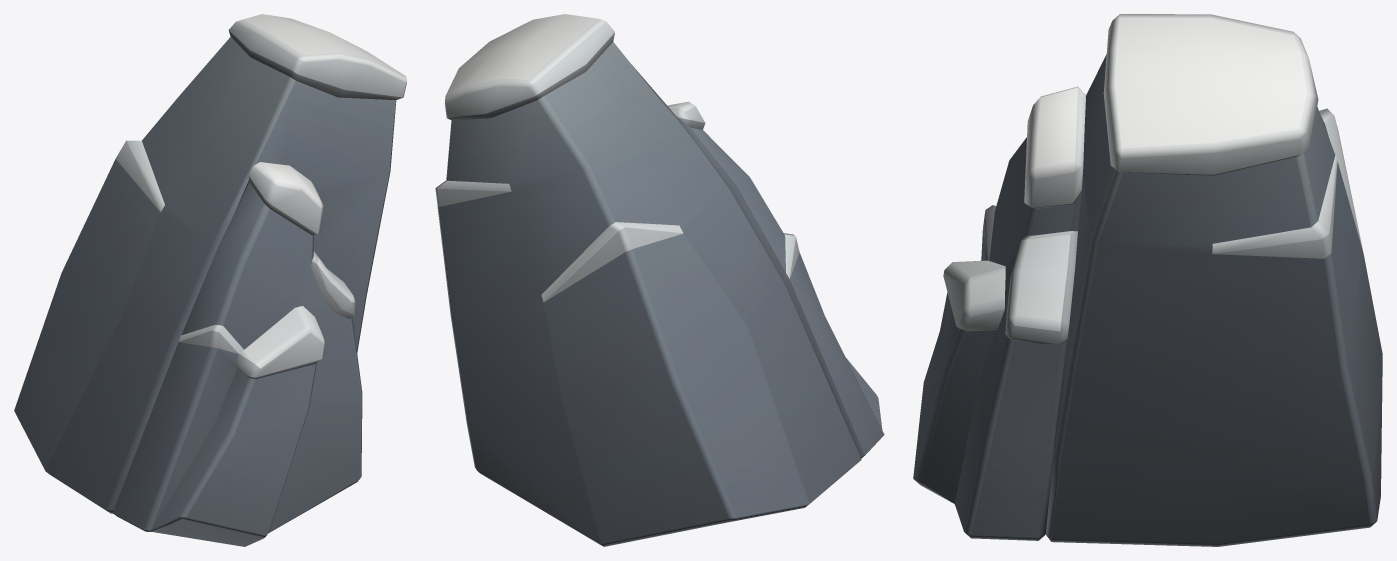
The model's file is rock_snow_029.fbx.
3 renders of one model, left to right at view 1: azimuth 30°, elevation 25°; view 2: azimuth 150°, elevation 25°; view 3: azimuth 270°, elevation 25°, orthographic. The views are drawn at different scales.
Parts seen in each view (by area): view 1: rock_snow_029; view 2: rock_snow_029; view 3: rock_snow_029.
Part boxes in pixels (x1,y1,x2,y2): rock_snow_029: [14, 14, 406, 546]; rock_snow_029: [435, 14, 884, 546]; rock_snow_029: [913, 14, 1382, 546].
Bounding box in the file's own units: 890 × 1090 × 805.
